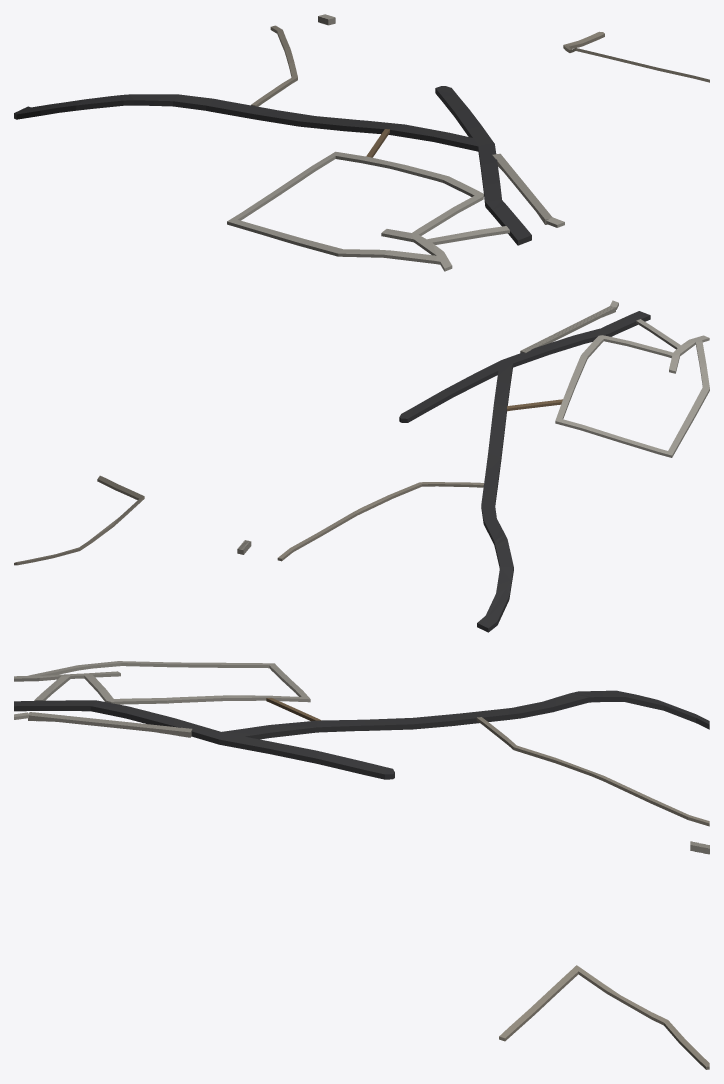
The picture shows the model from 3 angles, top to bottom: view 1: azimuth 30°, elevation 25°; view 2: azimuth 150°, elevation 25°; view 3: azimuth 270°, elevation 25°; orthographic projection. The views are drawn at different scales.
Size of the model in its own units: 142 by 38.07 by 146.
